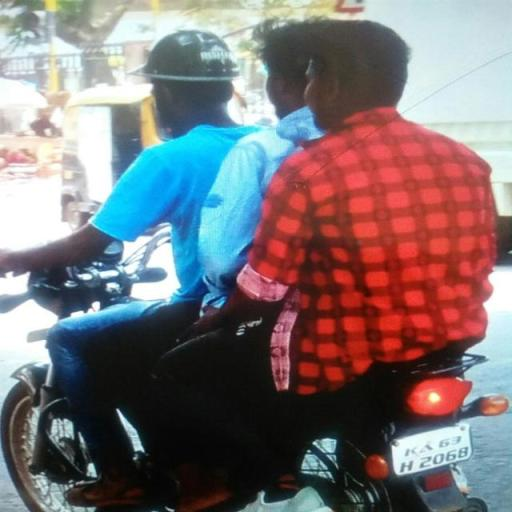tripple riding: (3, 18, 507, 407)
